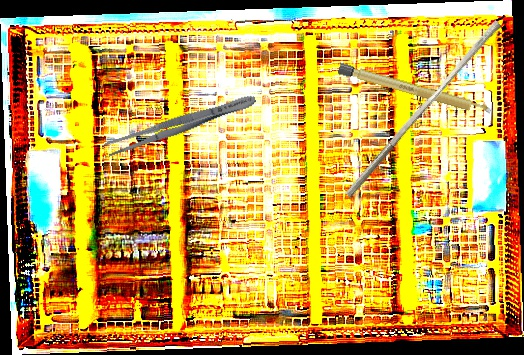Dressing Forceps: (103, 89, 259, 160)
Pusher: (344, 15, 503, 204)
Scalpel Handle: (337, 62, 493, 118)
